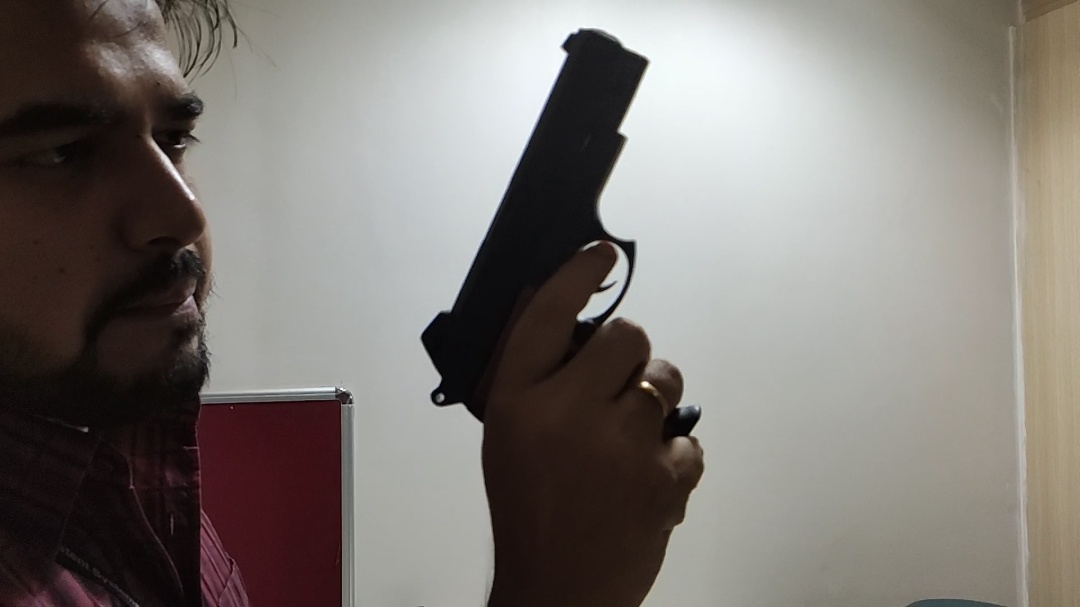gun: (418, 24, 703, 451)
